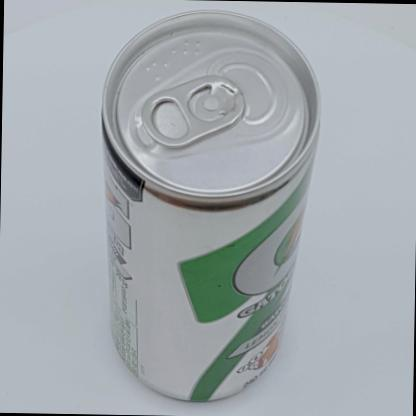alumunium_can: (90, 5, 327, 412)
